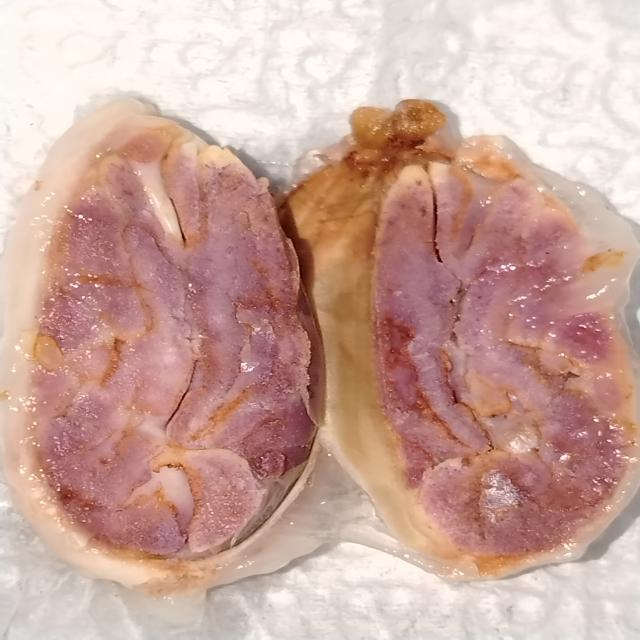Trinitario: (30, 126, 313, 560), (377, 149, 634, 555)
